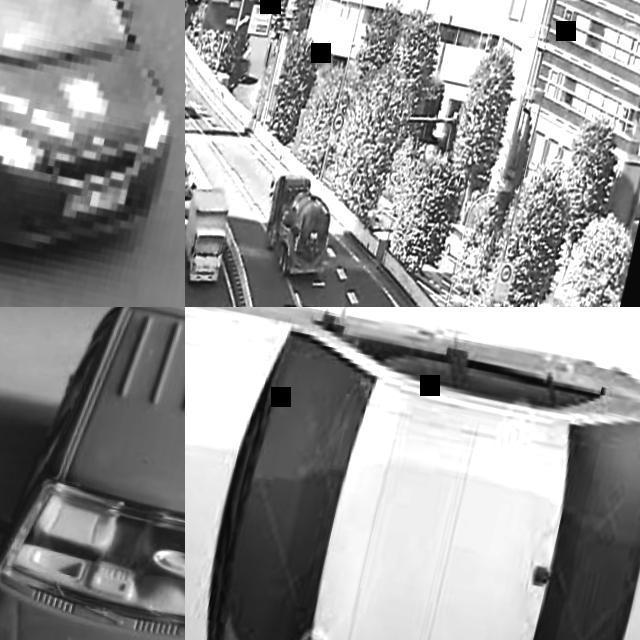car: (0, 302, 189, 639), (0, 0, 173, 249), (185, 44, 325, 306), (552, 0, 575, 40)
